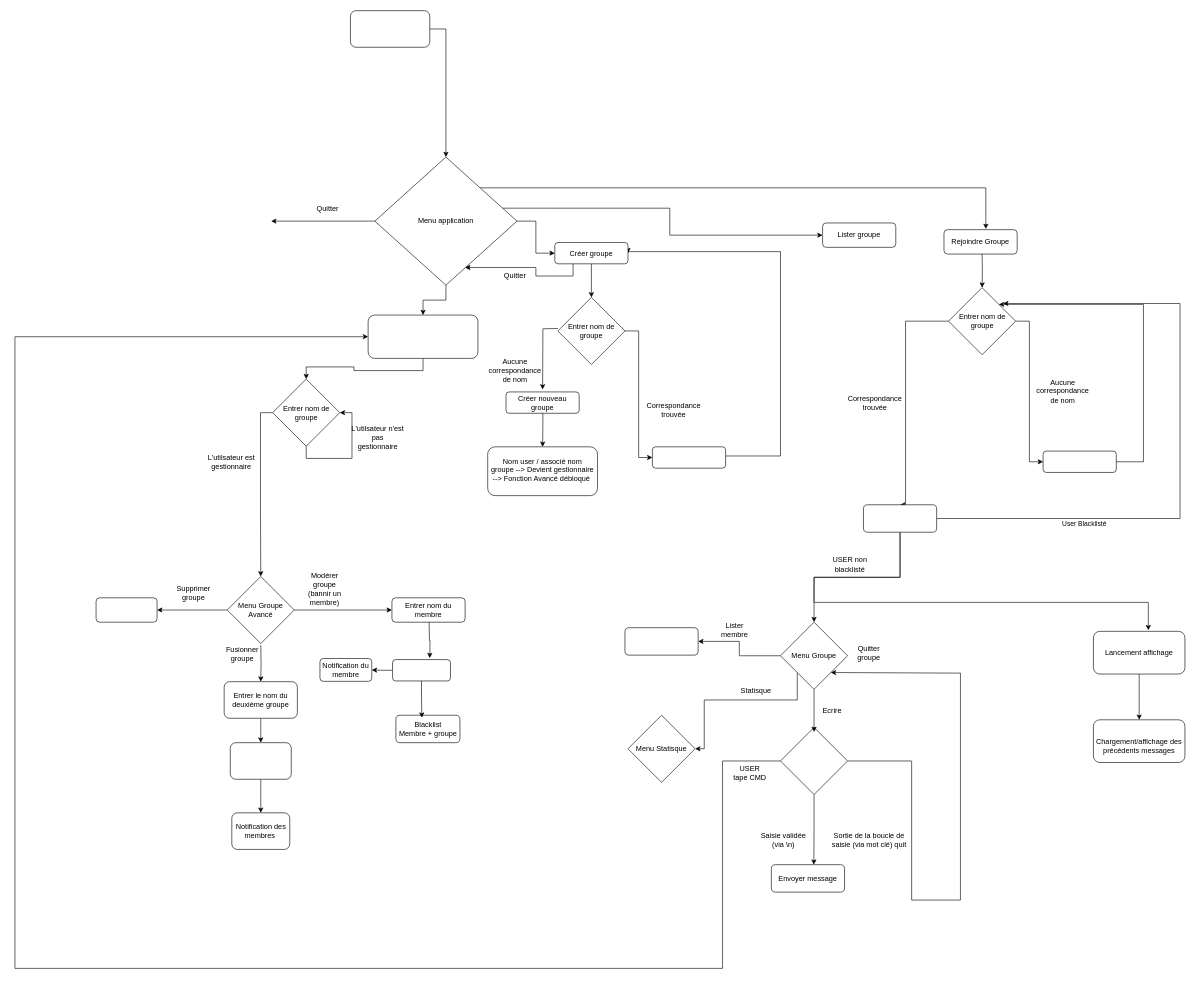
This 1196x984 diagram has some shape labels left out. Here are the shapes that lost their labels. From the top down, the centre of each, then its label:
At [390,28]: "Utilisateur entre son pseudo/nom".
At [423,336]: "Menu gestionnaire".
At [689,457]: "Groupe existant".
At [1079,461]: "Groupe inexistant".
At [900,518]: "Vérifie si membre blacklisté ou non".
At [126,609]: "Suppression du groupe".
At [661,641]: "Liste membres du groupe".
At [421,670]: "Membre exclu".
At [260,760]: "Fusion des deux groupes".
At [814,761]: "Saisie de utilisateur".
